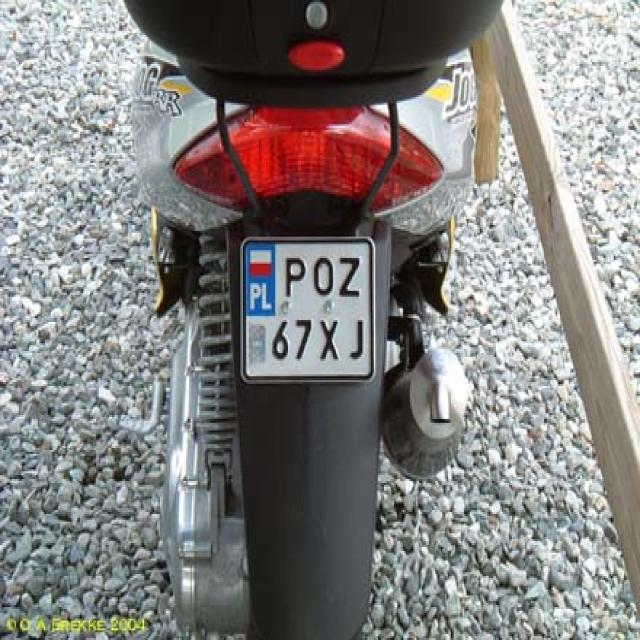pl_license_plate: (243, 240, 371, 372)
